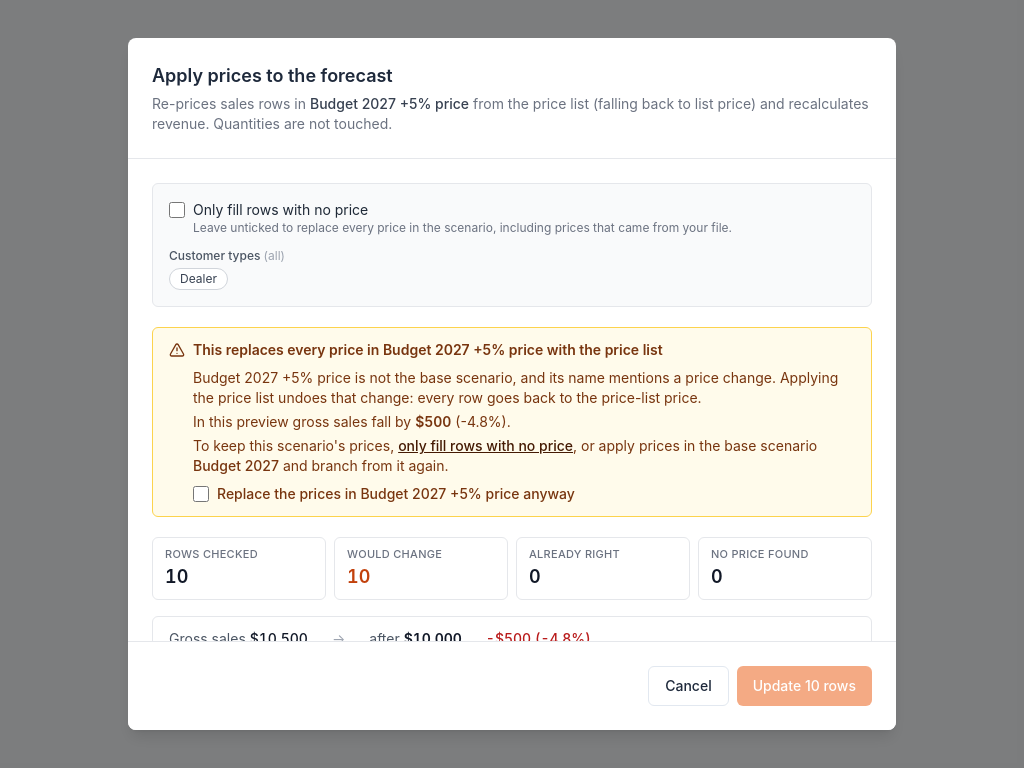
Test case: ApplyPricesModal in a branch › says when every row already has a price
Expected: the button "Update 10 rows" is shown, [737,666,872,706]
Click the checkbox labelled "Only fill rows with no price" at (177, 210), box [169,202,185,218]
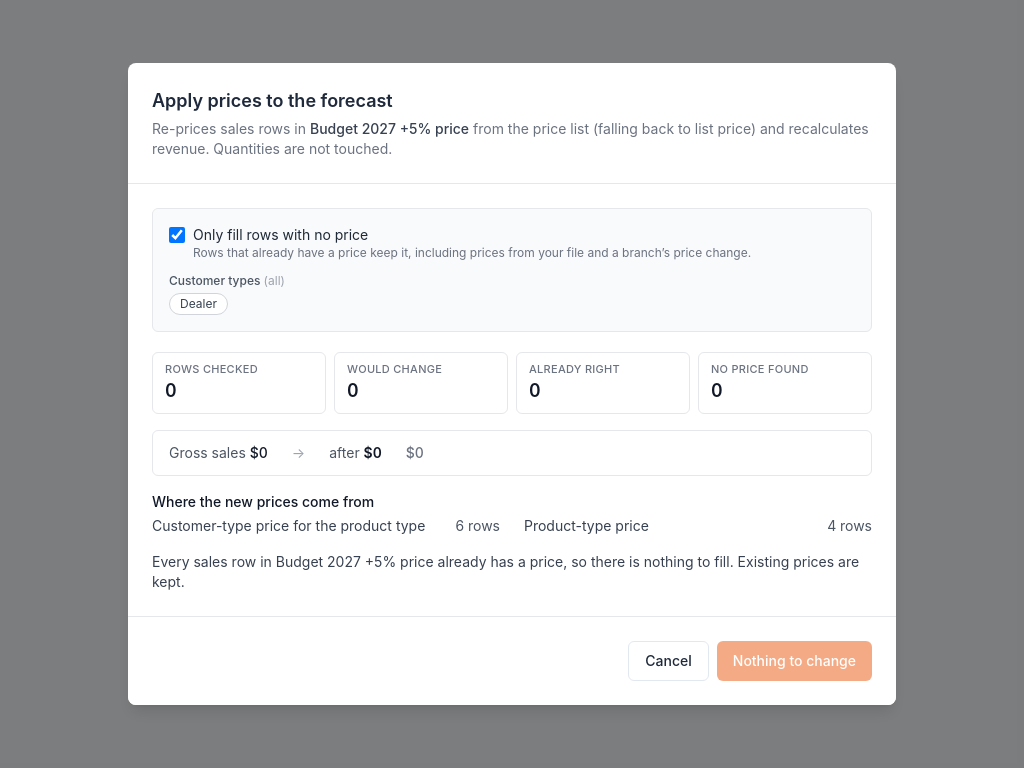
Expected: the button "Nothing to change" is disabled, [717,641,872,681]
Expected: the text with test id "nothing-to-fill" shows "Every sales row in Budget 2027 +5% price already has a price", [152,552,872,592]
